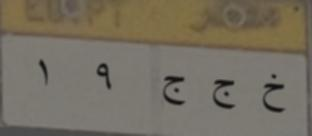1: (33, 56, 56, 90)
9: (93, 55, 116, 95)
jeem: (208, 74, 241, 115), (158, 70, 188, 115)
khaa: (261, 71, 290, 121)
